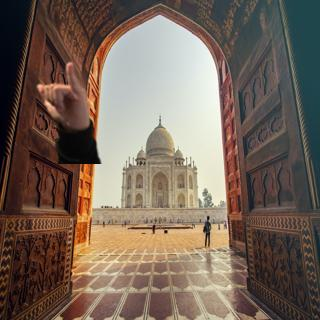HAVE: (27, 60, 94, 133)
